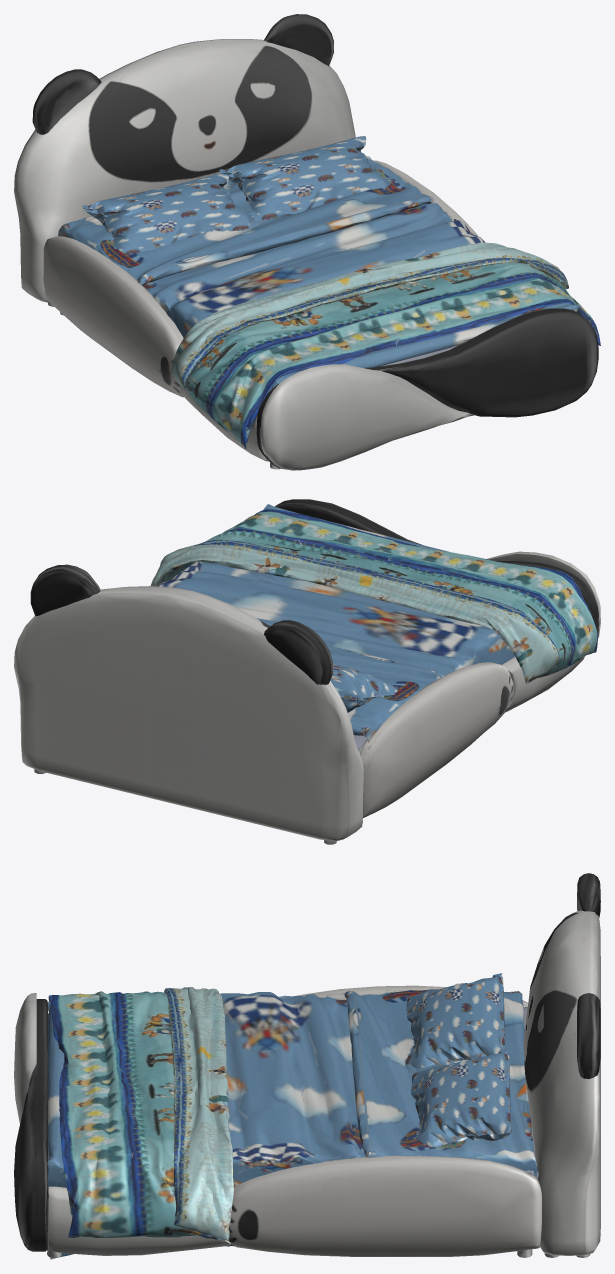
File: raw_model.obj
3 views of the same model, one above another, from view 1: azimuth 30°, elevation 25°; view 2: azimuth 150°, elevation 25°; view 3: azimuth 270°, elevation 25° (orthographic). The views are drawn at different scales.
Visible parts, largest first — view 1: solid_002, solid_008, solid_001, solid_006, solid_003, solid_007, solid_004; view 2: solid_008, solid_001, solid_002, solid_007, solid_004, solid_006, solid_003; view 3: solid_002, solid_001, solid_007, solid_008, solid_003, solid_006, solid_004.
Boxes of the visible parts, bbox=[...] form: solid_002: bbox=[58, 136, 580, 389]; solid_008: bbox=[14, 39, 355, 302]; solid_001: bbox=[170, 242, 600, 449]; solid_006: bbox=[256, 308, 598, 468]; solid_003: bbox=[182, 364, 472, 470]; solid_007: bbox=[43, 160, 478, 397]; solid_004: bbox=[32, 14, 333, 134]; solid_008: bbox=[14, 586, 363, 841]; solid_001: bbox=[150, 509, 597, 684]; solid_002: bbox=[158, 504, 514, 742]; solid_007: bbox=[359, 662, 514, 817]; solid_004: bbox=[30, 564, 332, 684]; solid_006: bbox=[274, 499, 599, 655]; solid_003: bbox=[487, 551, 600, 712]; solid_002: bbox=[47, 973, 537, 1259]; solid_001: bbox=[48, 987, 233, 1240]; solid_007: bbox=[228, 985, 541, 1256]; solid_008: bbox=[523, 910, 600, 1255]; solid_003: bbox=[14, 993, 230, 1255]; solid_006: bbox=[14, 999, 47, 1251]; solid_004: bbox=[577, 873, 600, 1078].
Size of the model in its own units: 2.02 by 1.1 by 2.35.
Materials: 1 (1 with a texture image).
